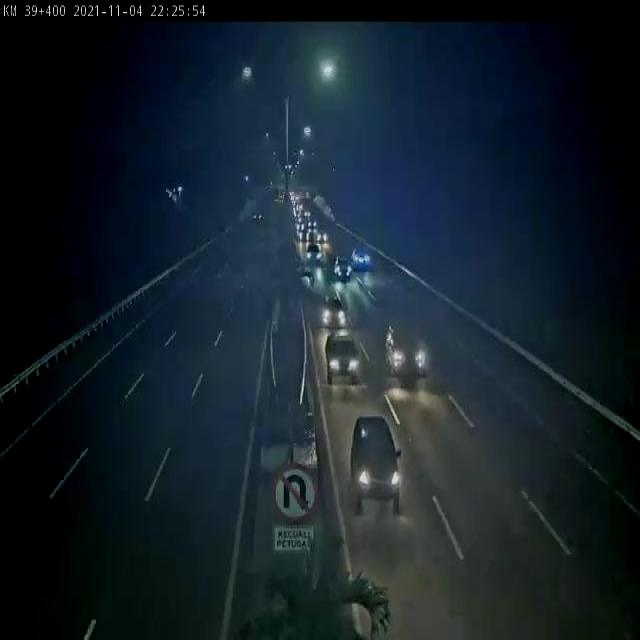Car: (348, 415, 404, 517), (384, 323, 430, 376), (323, 336, 361, 386), (320, 295, 348, 327), (332, 255, 352, 281), (352, 248, 372, 271), (306, 244, 321, 264), (316, 232, 329, 243), (298, 232, 311, 242)
